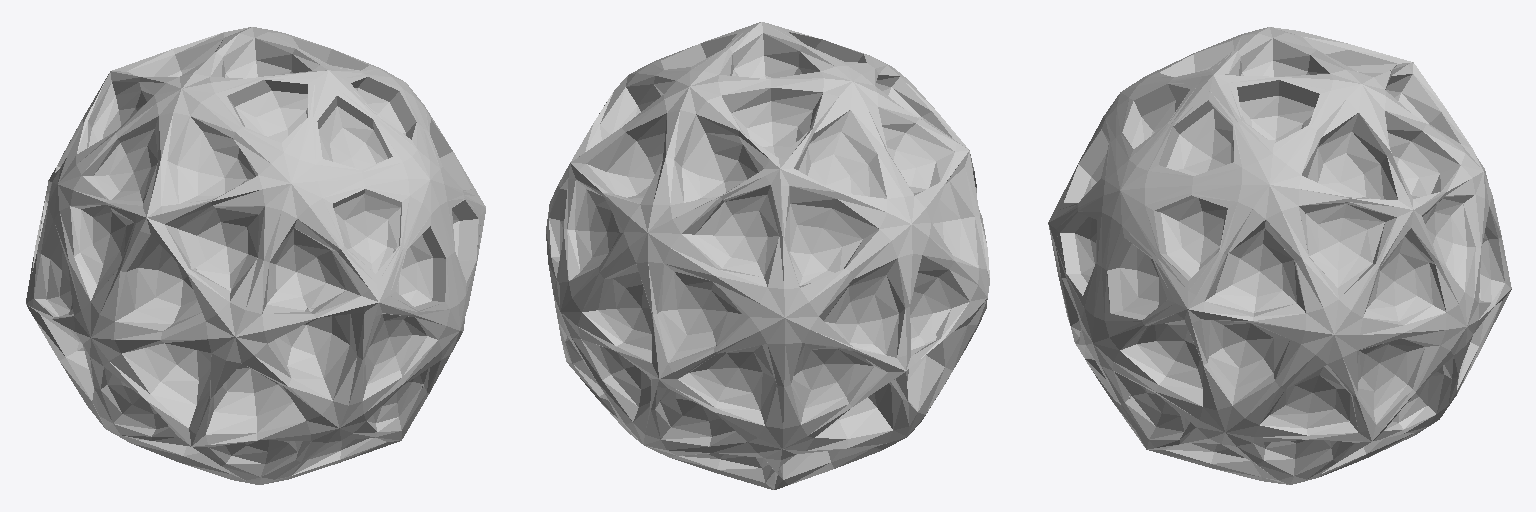
File: star1.obj
The picture shows the model from 3 angles: view 1: azimuth 30°, elevation 25°; view 2: azimuth 150°, elevation 25°; view 3: azimuth 270°, elevation 25°; orthographic projection.
Visible parts, largest first — view 1: pSolid1; view 2: pSolid1; view 3: pSolid1.
Boxes of the visible parts, <box> form: pSolid1: <box>26,27,485,484</box>; pSolid1: <box>546,22,989,489</box>; pSolid1: <box>1048,27,1511,484</box>.
Bounding box in the file's own units: 8.3 × 8.22 × 8.62.